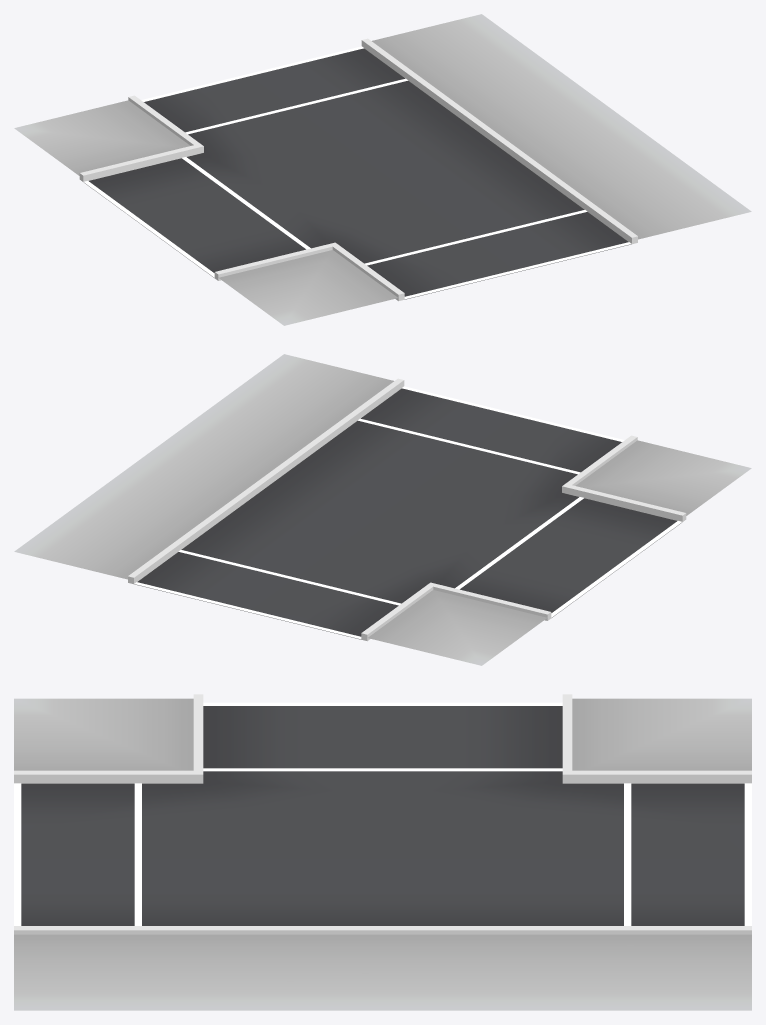
Rendered from city2-road-011.glb.
3 renders of one model, top to bottom at view 1: azimuth 30°, elevation 25°; view 2: azimuth 150°, elevation 25°; view 3: azimuth 270°, elevation 25°, orthographic. The views are drawn at different scales.
Parts seen in each view (by area): view 1: road_011; view 2: road_011; view 3: road_011.
Part boxes in pixels (x1=…): road_011: x1=14, y1=14, x2=751, y2=325; road_011: x1=14, y1=354, x2=751, y2=665; road_011: x1=14, y1=694, x2=751, y2=1010.
Size of the model in its own units: 15 by 0.2 by 15.
Materials: 1 (1 with a texture image).
